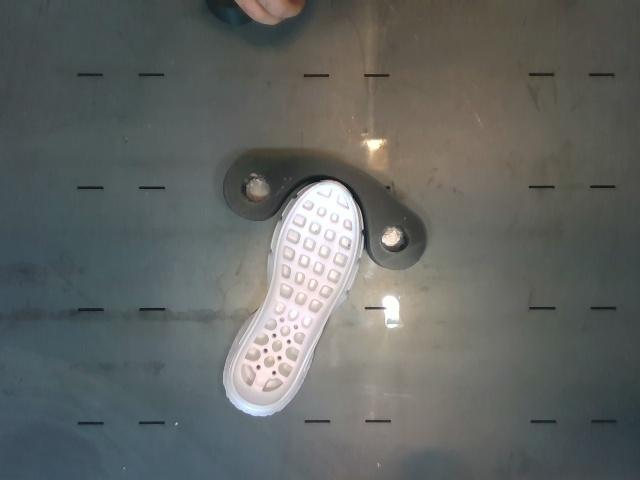shoes: (233, 182, 357, 406)
